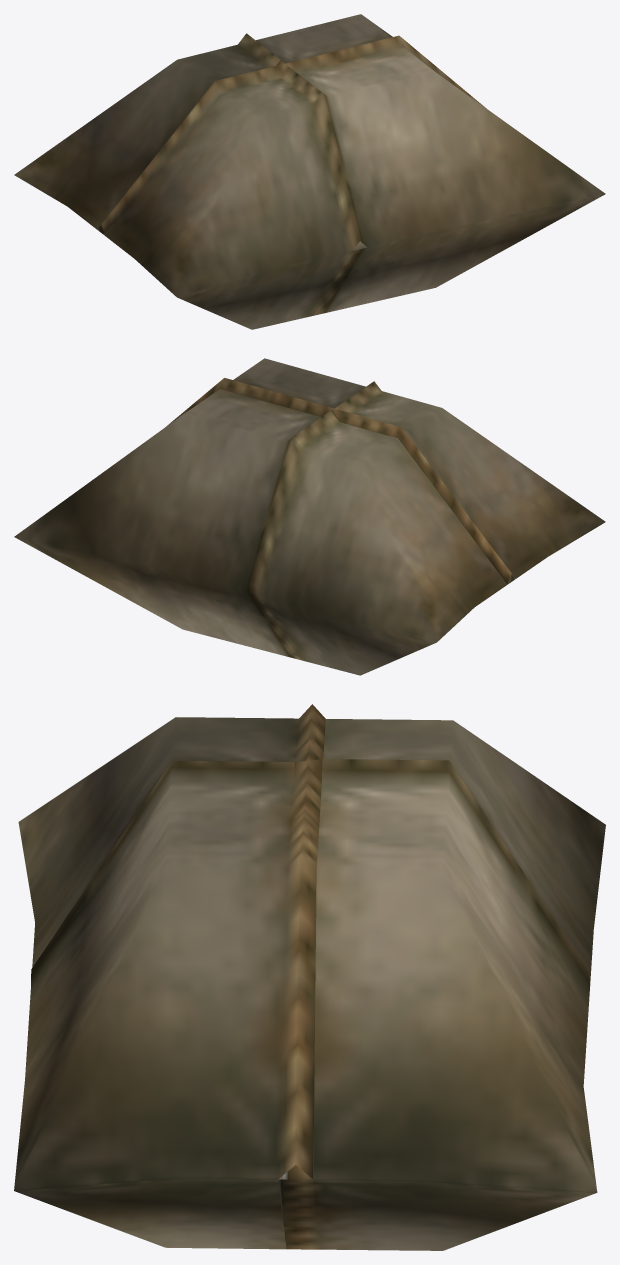
File: Battle05_Other_016.FBX
3 views of the same model, one above another, from view 1: azimuth 30°, elevation 25°; view 2: azimuth 150°, elevation 25°; view 3: azimuth 270°, elevation 25° (orthographic). The views are drawn at different scales.
Visible parts, largest first — view 1: Battle05_Other_016; view 2: Battle05_Other_016; view 3: Battle05_Other_016.
Boxes of the visible parts, x1,y1,x2,y2 form: Battle05_Other_016: [14, 14, 605, 329]; Battle05_Other_016: [14, 358, 605, 675]; Battle05_Other_016: [14, 704, 605, 1250].
Bounding box in the file's own units: 1.38 × 0.6873 × 0.9326.
